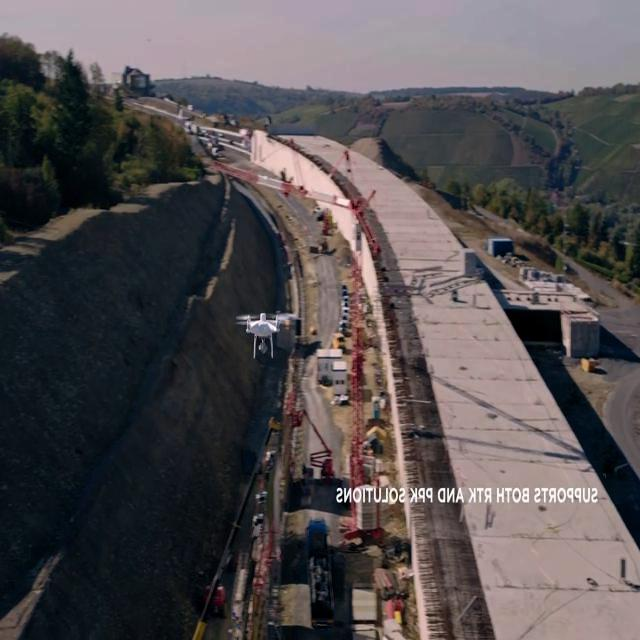drone: (233, 308, 294, 361)
